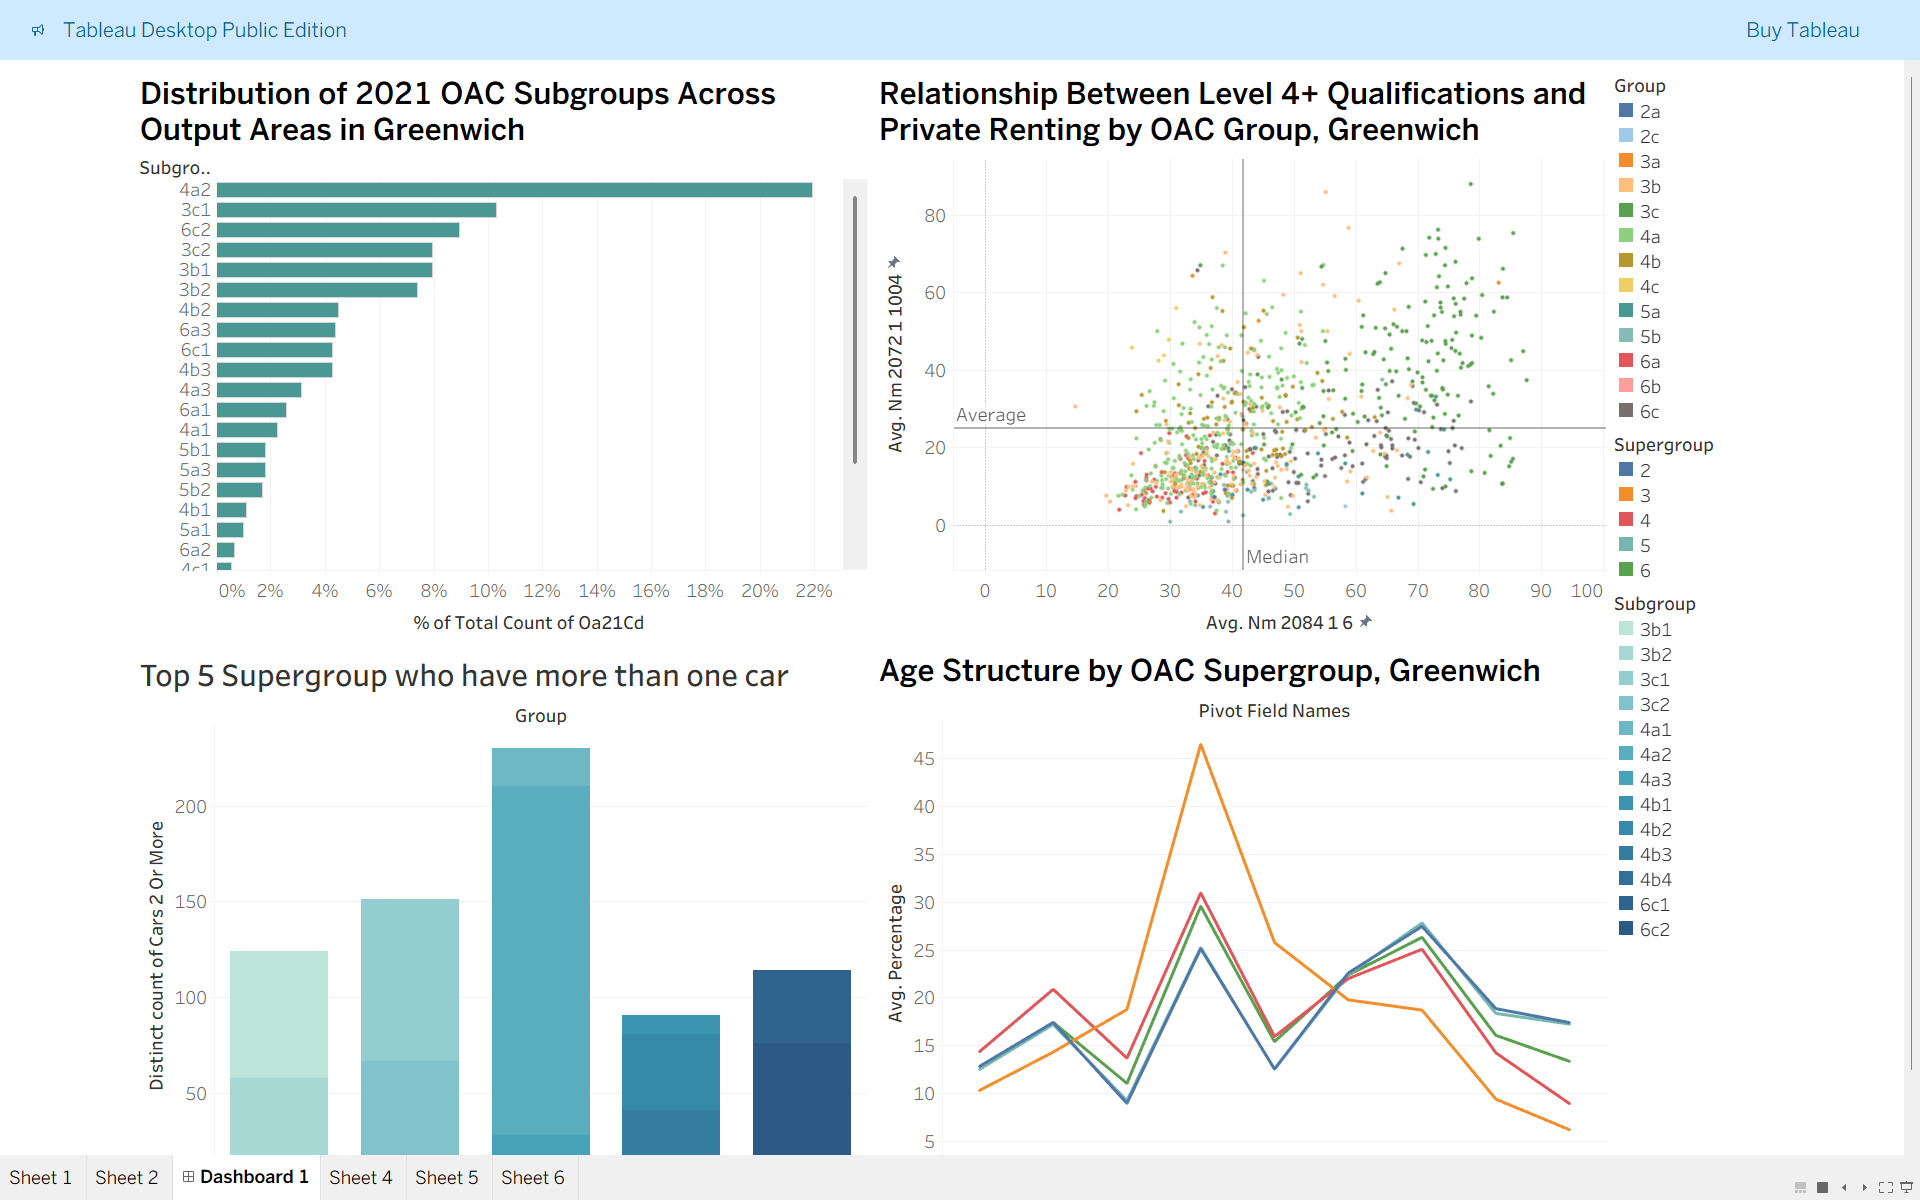

What the dashboard file says about the page in this screenshot:
{"tool":"tableau","page":{"name":"Dashboard 1","canvas":[1654,1169],"ordinal":0},"visuals":[{"type":"worksheet","title":"Sheet 1","mark":"Automatic","rows":["supergroup"],"cols":["oa21cd"],"box":[8,8,739,576.5]},{"type":"worksheet","title":"Sheet 2","mark":"Automatic","rows":["NM_2072_1_1004"],"cols":["NM_2084_1_6"],"box":[747,8,739,576.5]},{"type":"legend","title":"Sheet 2","param":"[federated.1143ifv0u1g0oj15r3rgb1ndpdsj].[none:group:nk]","box":[1486,8,160,359]},{"type":"worksheet","title":"Sheet 4","mark":"Automatic","rows":["cars_2_or_more"],"cols":["group"],"box":[8,584.5,739,576.5]},{"type":"worksheet","title":"Sheet 5","mark":"Line","rows":["Pivot Field Values"],"cols":["Pivot Field Names"],"box":[747,584.5,739,576.5]}]}

Visuals, with their boxes on the page's 1654x1169 design canvas (x1, y1, x2, y2). These are canvas units, not pixel positions in the 1920x1200 screenshot, which may show the page scaled, cropped or inside an application window:
"Sheet 1" worksheet: (8, 8, 747, 584)
"Sheet 2" worksheet: (747, 8, 1486, 584)
"Sheet 2" legend: (1486, 8, 1646, 367)
"Sheet 4" worksheet: (8, 584, 747, 1161)
"Sheet 5" worksheet (Line marks): (747, 584, 1486, 1161)
